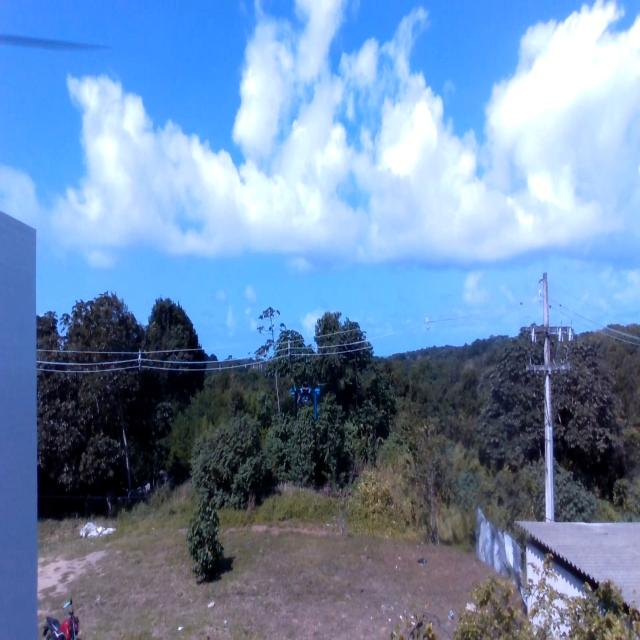-uav-: (288, 376, 324, 415)
